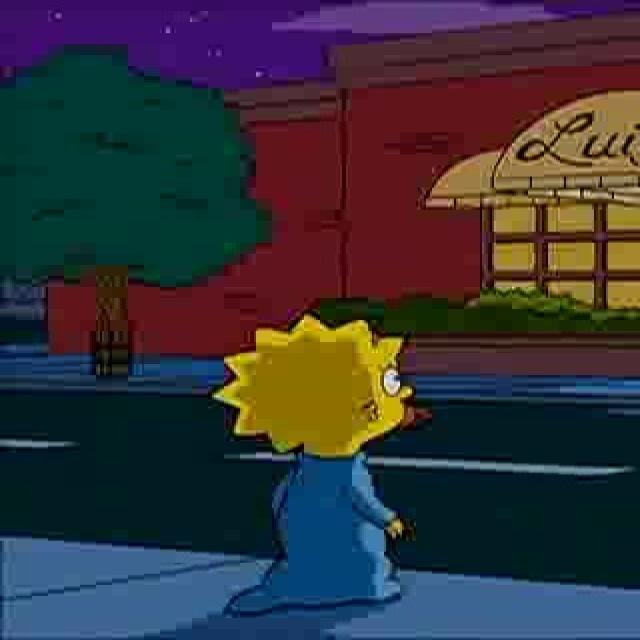Maggie Simpson: (208, 309, 428, 461)
